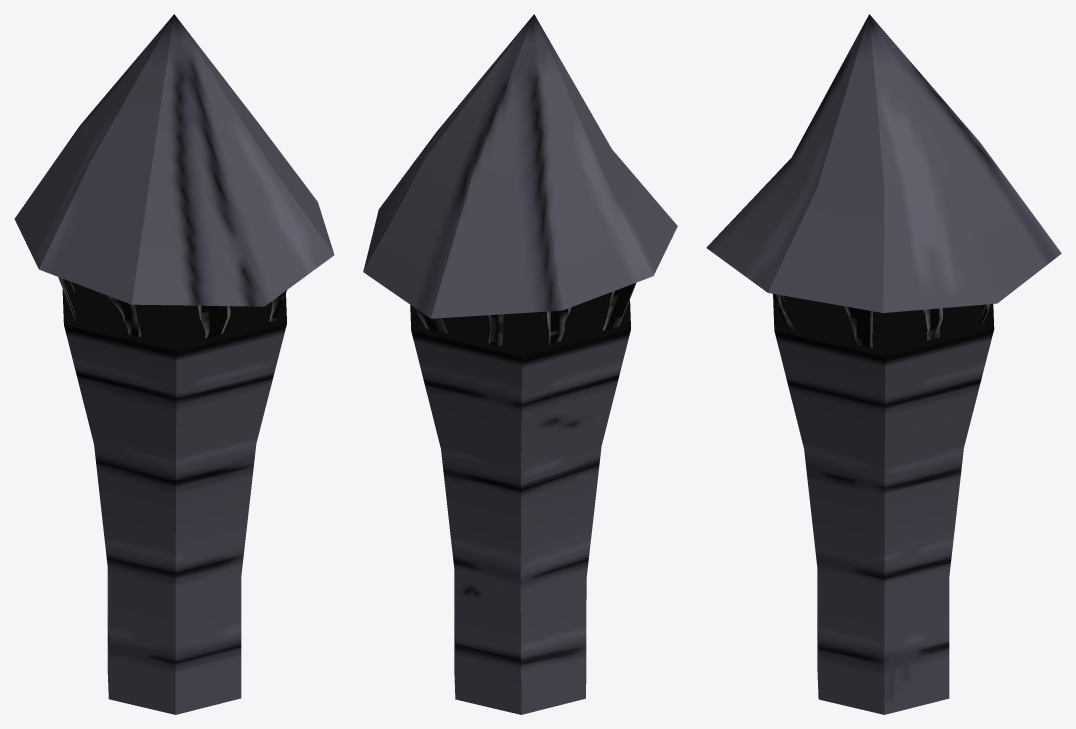
The model's file is komin1.fbx.
3 views of the same model, side by side, from view 1: azimuth 30°, elevation 25°; view 2: azimuth 150°, elevation 25°; view 3: azimuth 270°, elevation 25° (orthographic).
Parts seen in each view (by area): view 1: komin1; view 2: komin1; view 3: komin1.
Part boxes in pixels (left/top/right/bottom): komin1: left=14, top=14, right=334, bottom=714; komin1: left=363, top=14, right=677, bottom=714; komin1: left=706, top=14, right=1061, bottom=714.
Bounding box in the file's own units: 73.11 × 169 × 81.93.
1 material, 1 textured.
